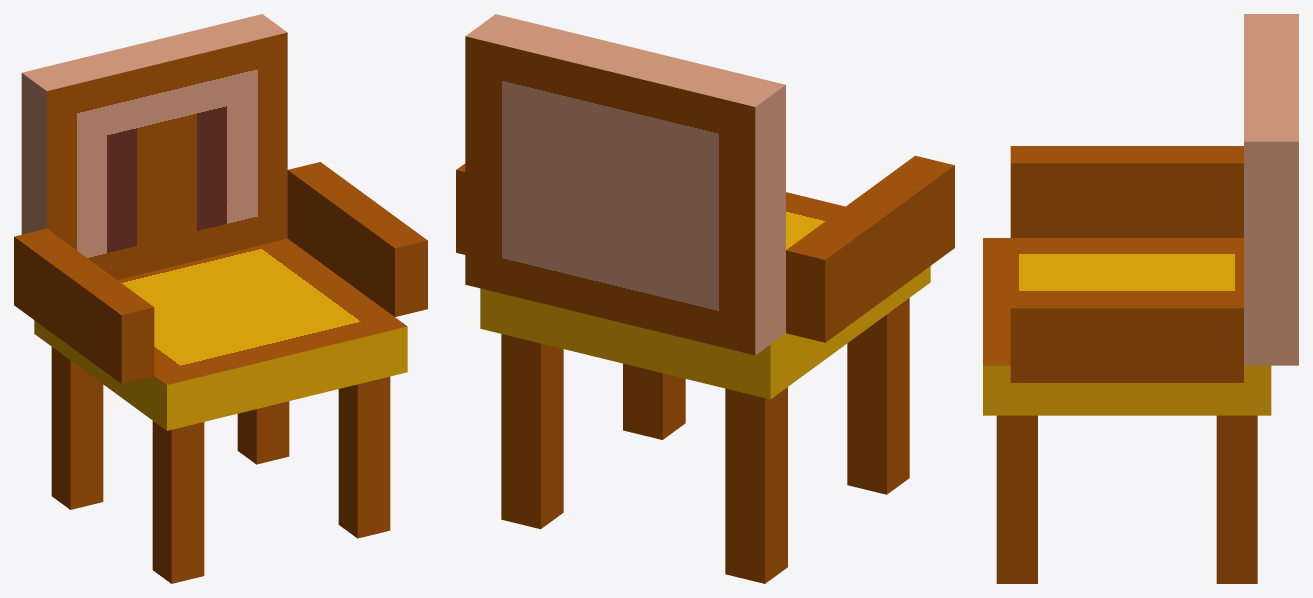
Rendered from lotek_tile_036.gltf.
3 views of the same model, side by side, from view 1: azimuth 30°, elevation 25°; view 2: azimuth 150°, elevation 25°; view 3: azimuth 270°, elevation 25° (orthographic). The views are drawn at different scales.
Parts seen in each view (by area): view 1: lotek_tile_036; view 2: lotek_tile_036; view 3: lotek_tile_036.
Boxes of the visible parts, x1,y1,x2,y2 form: lotek_tile_036: (14,14,427,583); lotek_tile_036: (456,14,954,583); lotek_tile_036: (983,14,1298,583).
Size of the model in its own units: 14 by 18 by 11.5.
Materials: 1 (1 with a texture image).
